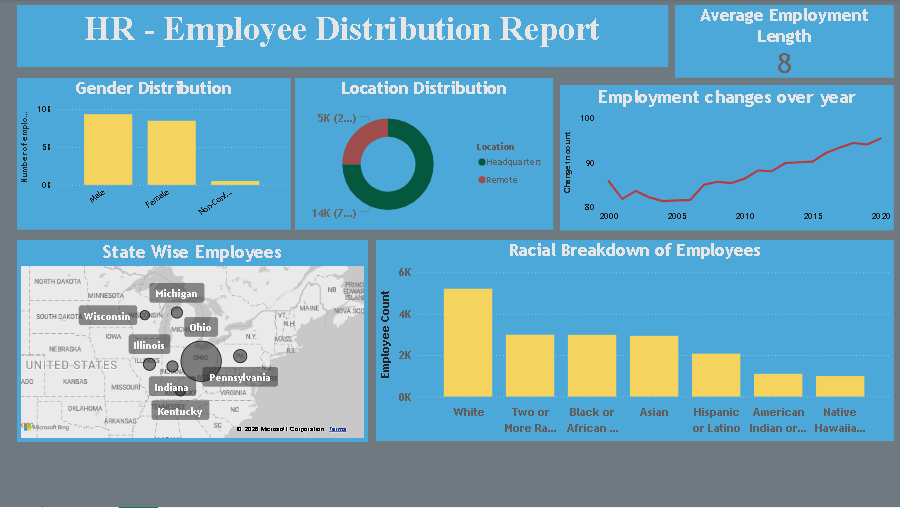

The dashboard page shown, as its layout file describes it:
{"tool":"powerbi","page":{"name":"Page 1","canvas":[1280,720],"ordinal":0},"visuals":[{"type":"textbox","box":[25.5,8.5,922.7,87.9],"z":0},{"type":"card","title":"Average Employment Length","fields":{"Values":["Sum(Avg_Length_Employment.Column1)"]},"box":[958.1,8.5,310.4,103.5],"z":1000},{"type":"columnChart","title":"Gender Distribution","fields":{"Category":["Gender_breakdown.Column1"],"Y":["Sum(Gender_breakdown.Column2)"]},"box":[25.5,112,388.3,215.4],"z":2000},{"type":"donutChart","title":"Location Distribution","fields":{"Category":["Location.Column1"],"Y":["Sum(Location.Column2)"]},"box":[419.5,112,365.7,215.4],"z":3000},{"type":"lineChart","title":"Employment changes over year","fields":{"Category":["Count_change.Column1"],"Y":["Sum(Count_change.Column5)"]},"box":[795.1,121.9,473.4,205.5],"z":4000},{"type":"map","title":"State Wise Employees","fields":{"Size":["Sum(State.Column2)"],"Category":["State.Column1"]},"box":[25.5,341.6,497.5,284.9],"z":5000},{"type":"columnChart","title":"Racial Breakdown of Employees","fields":{"Category":["Race_breakdown.Column1"],"Y":["Sum(Race_breakdown.Column2)"]},"box":[534.3,341.6,734.2,284.9],"z":6000}]}

Visuals, with their boxes in screenshot pixels (x1, y1, x2, y2), scaled from the page's 1280x720 canvas onto the 900x508 screenshot:
textbox: (x1=18, y1=6, x2=667, y2=68)
"Average Employment Length" card: (x1=674, y1=6, x2=892, y2=79)
"Gender Distribution" columnChart: (x1=18, y1=79, x2=291, y2=231)
"Location Distribution" donutChart: (x1=295, y1=79, x2=552, y2=231)
"Employment changes over year" lineChart: (x1=559, y1=86, x2=892, y2=231)
"State Wise Employees" map: (x1=18, y1=241, x2=368, y2=442)
"Racial Breakdown of Employees" columnChart: (x1=376, y1=241, x2=892, y2=442)
